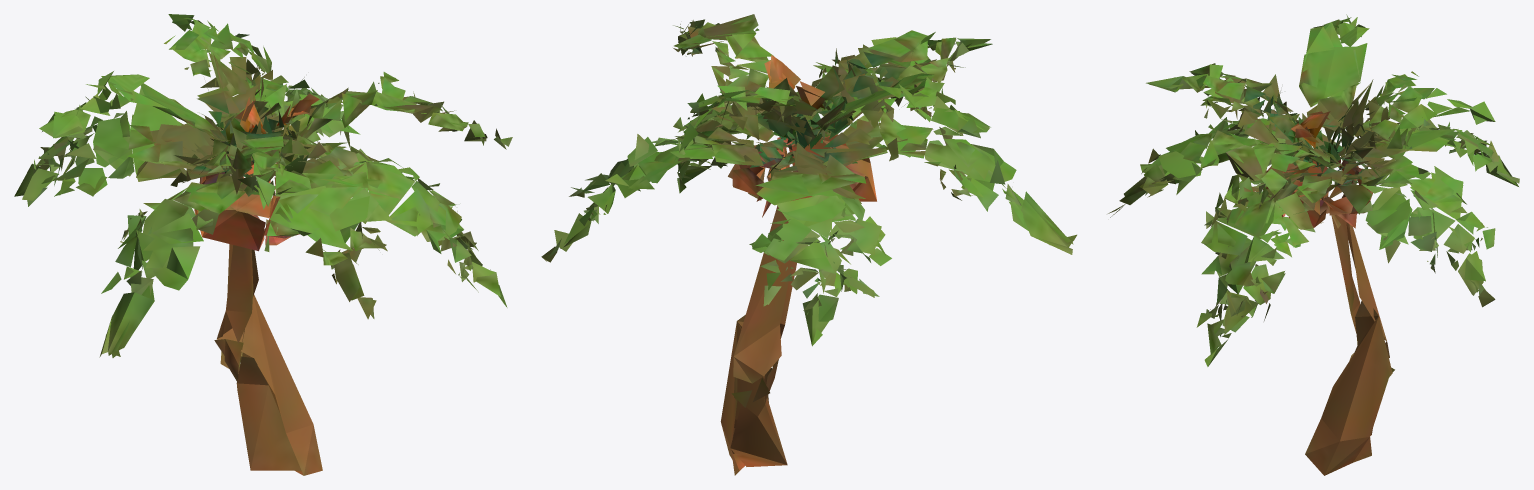
File: loc_sy_coco_ai.glb
The picture shows the model from 3 angles, left to right: view 1: azimuth 30°, elevation 25°; view 2: azimuth 150°, elevation 25°; view 3: azimuth 270°, elevation 25°; orthographic projection. The views are drawn at different scales.
Visible parts, largest first — view 1: tripo_node_af7d1a8b-cb19-4447-88ee-48be027b0dc9; view 2: tripo_node_af7d1a8b-cb19-4447-88ee-48be027b0dc9; view 3: tripo_node_af7d1a8b-cb19-4447-88ee-48be027b0dc9.
Boxes of the visible parts, left/top/right/bottom form: tripo_node_af7d1a8b-cb19-4447-88ee-48be027b0dc9: left=14, top=14, right=512, bottom=475; tripo_node_af7d1a8b-cb19-4447-88ee-48be027b0dc9: left=541, top=14, right=1076, bottom=475; tripo_node_af7d1a8b-cb19-4447-88ee-48be027b0dc9: left=1108, top=14, right=1519, bottom=475.
Size of the model in its own units: 2.79 by 2.83 by 2.85.
1 material, 1 textured.
